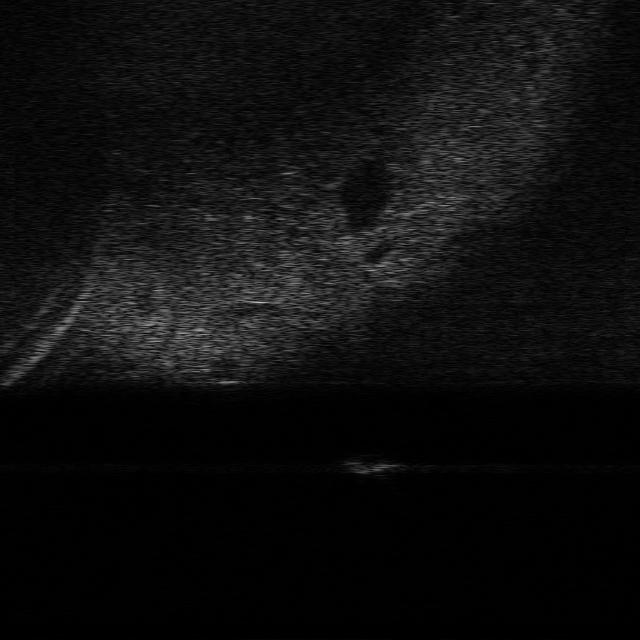cube: (340, 452, 400, 475)
